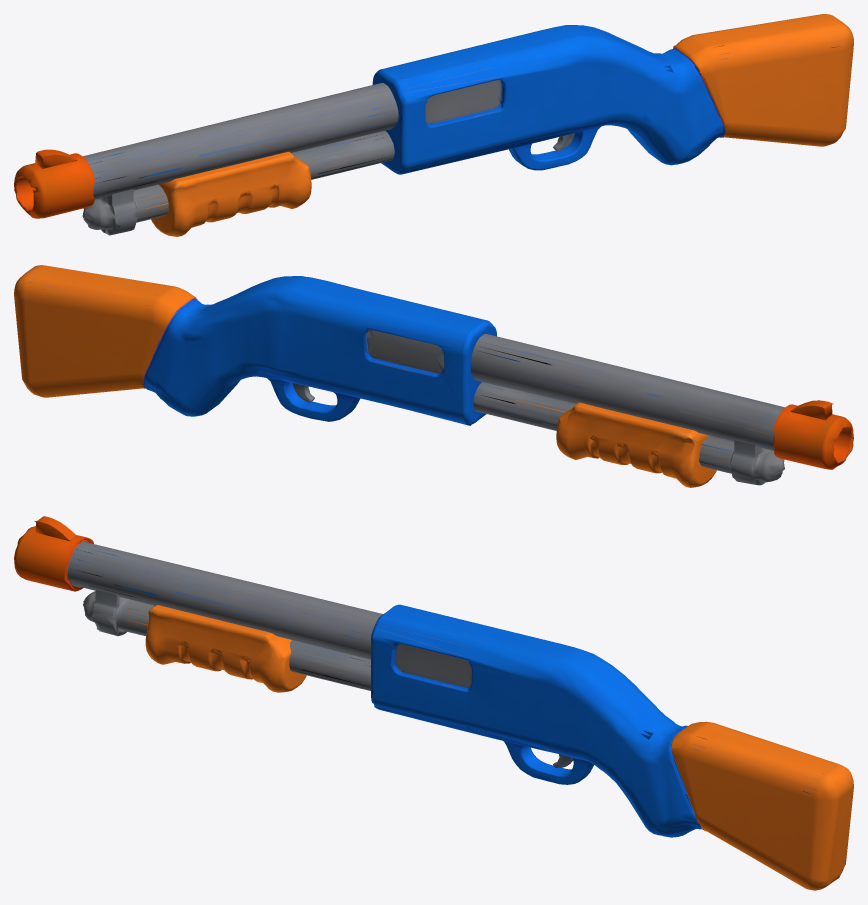
File: shotgun.glb
3 views of the same model, one above another, from view 1: azimuth 30°, elevation 25°; view 2: azimuth 150°, elevation 25°; view 3: azimuth 330°, elevation 25° (orthographic).
Parts seen in each view (by area): view 1: geometry_0; view 2: geometry_0; view 3: geometry_0.
Boxes of the visible parts, x1,y1,x2,y2 form: geometry_0: (14,14,853,236); geometry_0: (14,265,853,487); geometry_0: (14,516,853,890).
Bounding box in the file's own units: 0.9565 × 0.1968 × 0.0688.
Materials: 1 (1 with a texture image).
